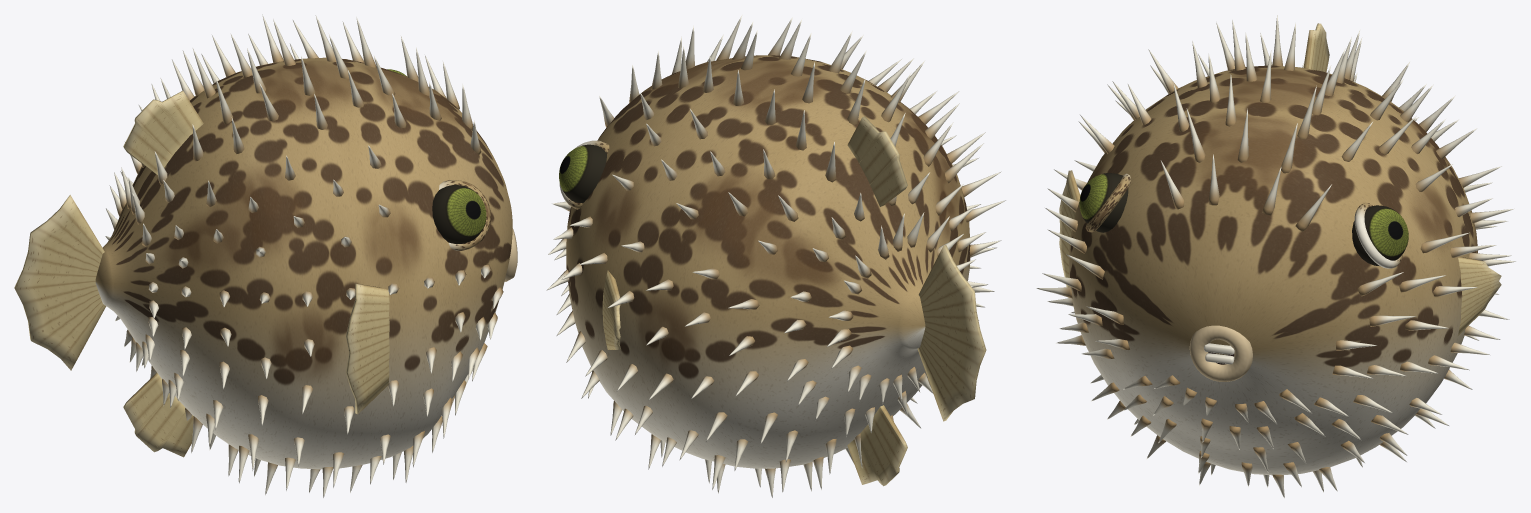
Rendered from Pufferfish.glb.
3 renders of one model, left to right at view 1: azimuth 30°, elevation 25°; view 2: azimuth 150°, elevation 25°; view 3: azimuth 270°, elevation 25°, orthographic.
Visible parts, largest first — view 1: Pufferfish body, Fins, Spines, Eyes, glossy, Eye lids; view 2: Pufferfish body, Spines, Fins, Eyes, glossy; view 3: Pufferfish body, Spines, Fins, Eyes, glossy, Lips, Eye lids, Beak teeth.
Boxes of the visible parts, bbox=[...] form: Pufferfish body: bbox=[95, 57, 512, 469]; Fins: bbox=[14, 90, 389, 457]; Spines: bbox=[105, 14, 503, 497]; Eyes, glossy: bbox=[387, 69, 486, 244]; Eye lids: bbox=[439, 180, 491, 250]; Pufferfish body: bbox=[566, 55, 970, 468]; Spines: bbox=[546, 15, 1005, 497]; Fins: bbox=[602, 116, 986, 486]; Eyes, glossy: bbox=[559, 144, 606, 202]; Pufferfish body: bbox=[1068, 65, 1477, 475]; Spines: bbox=[1036, 15, 1515, 498]; Fins: bbox=[1059, 23, 1501, 335]; Eyes, glossy: bbox=[1079, 173, 1408, 265]; Lips: bbox=[1189, 325, 1252, 381]; Eye lids: bbox=[1085, 173, 1402, 268]; Beak teeth: bbox=[1204, 343, 1234, 364].
Bounding box in the file's own units: 0.2338 × 0.2272 × 0.2274.
7 materials, 7 textured.
